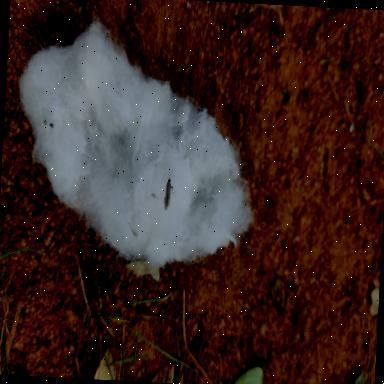pbw: (162, 175, 174, 211)
